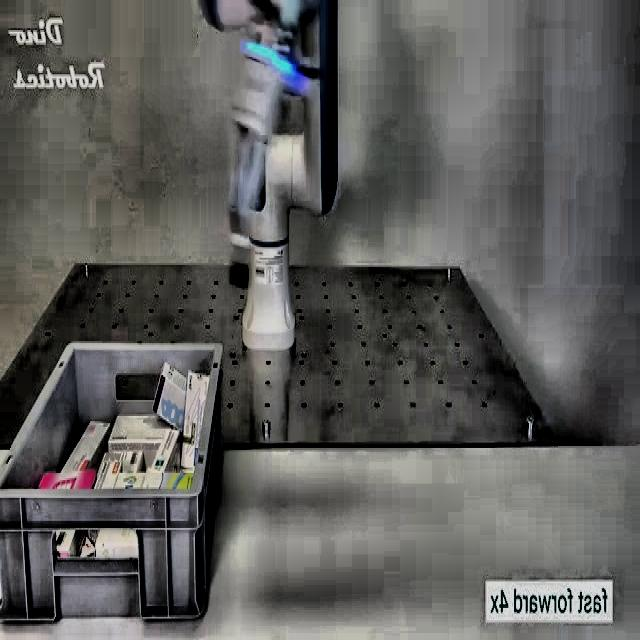robot: (202, 0, 340, 350)
